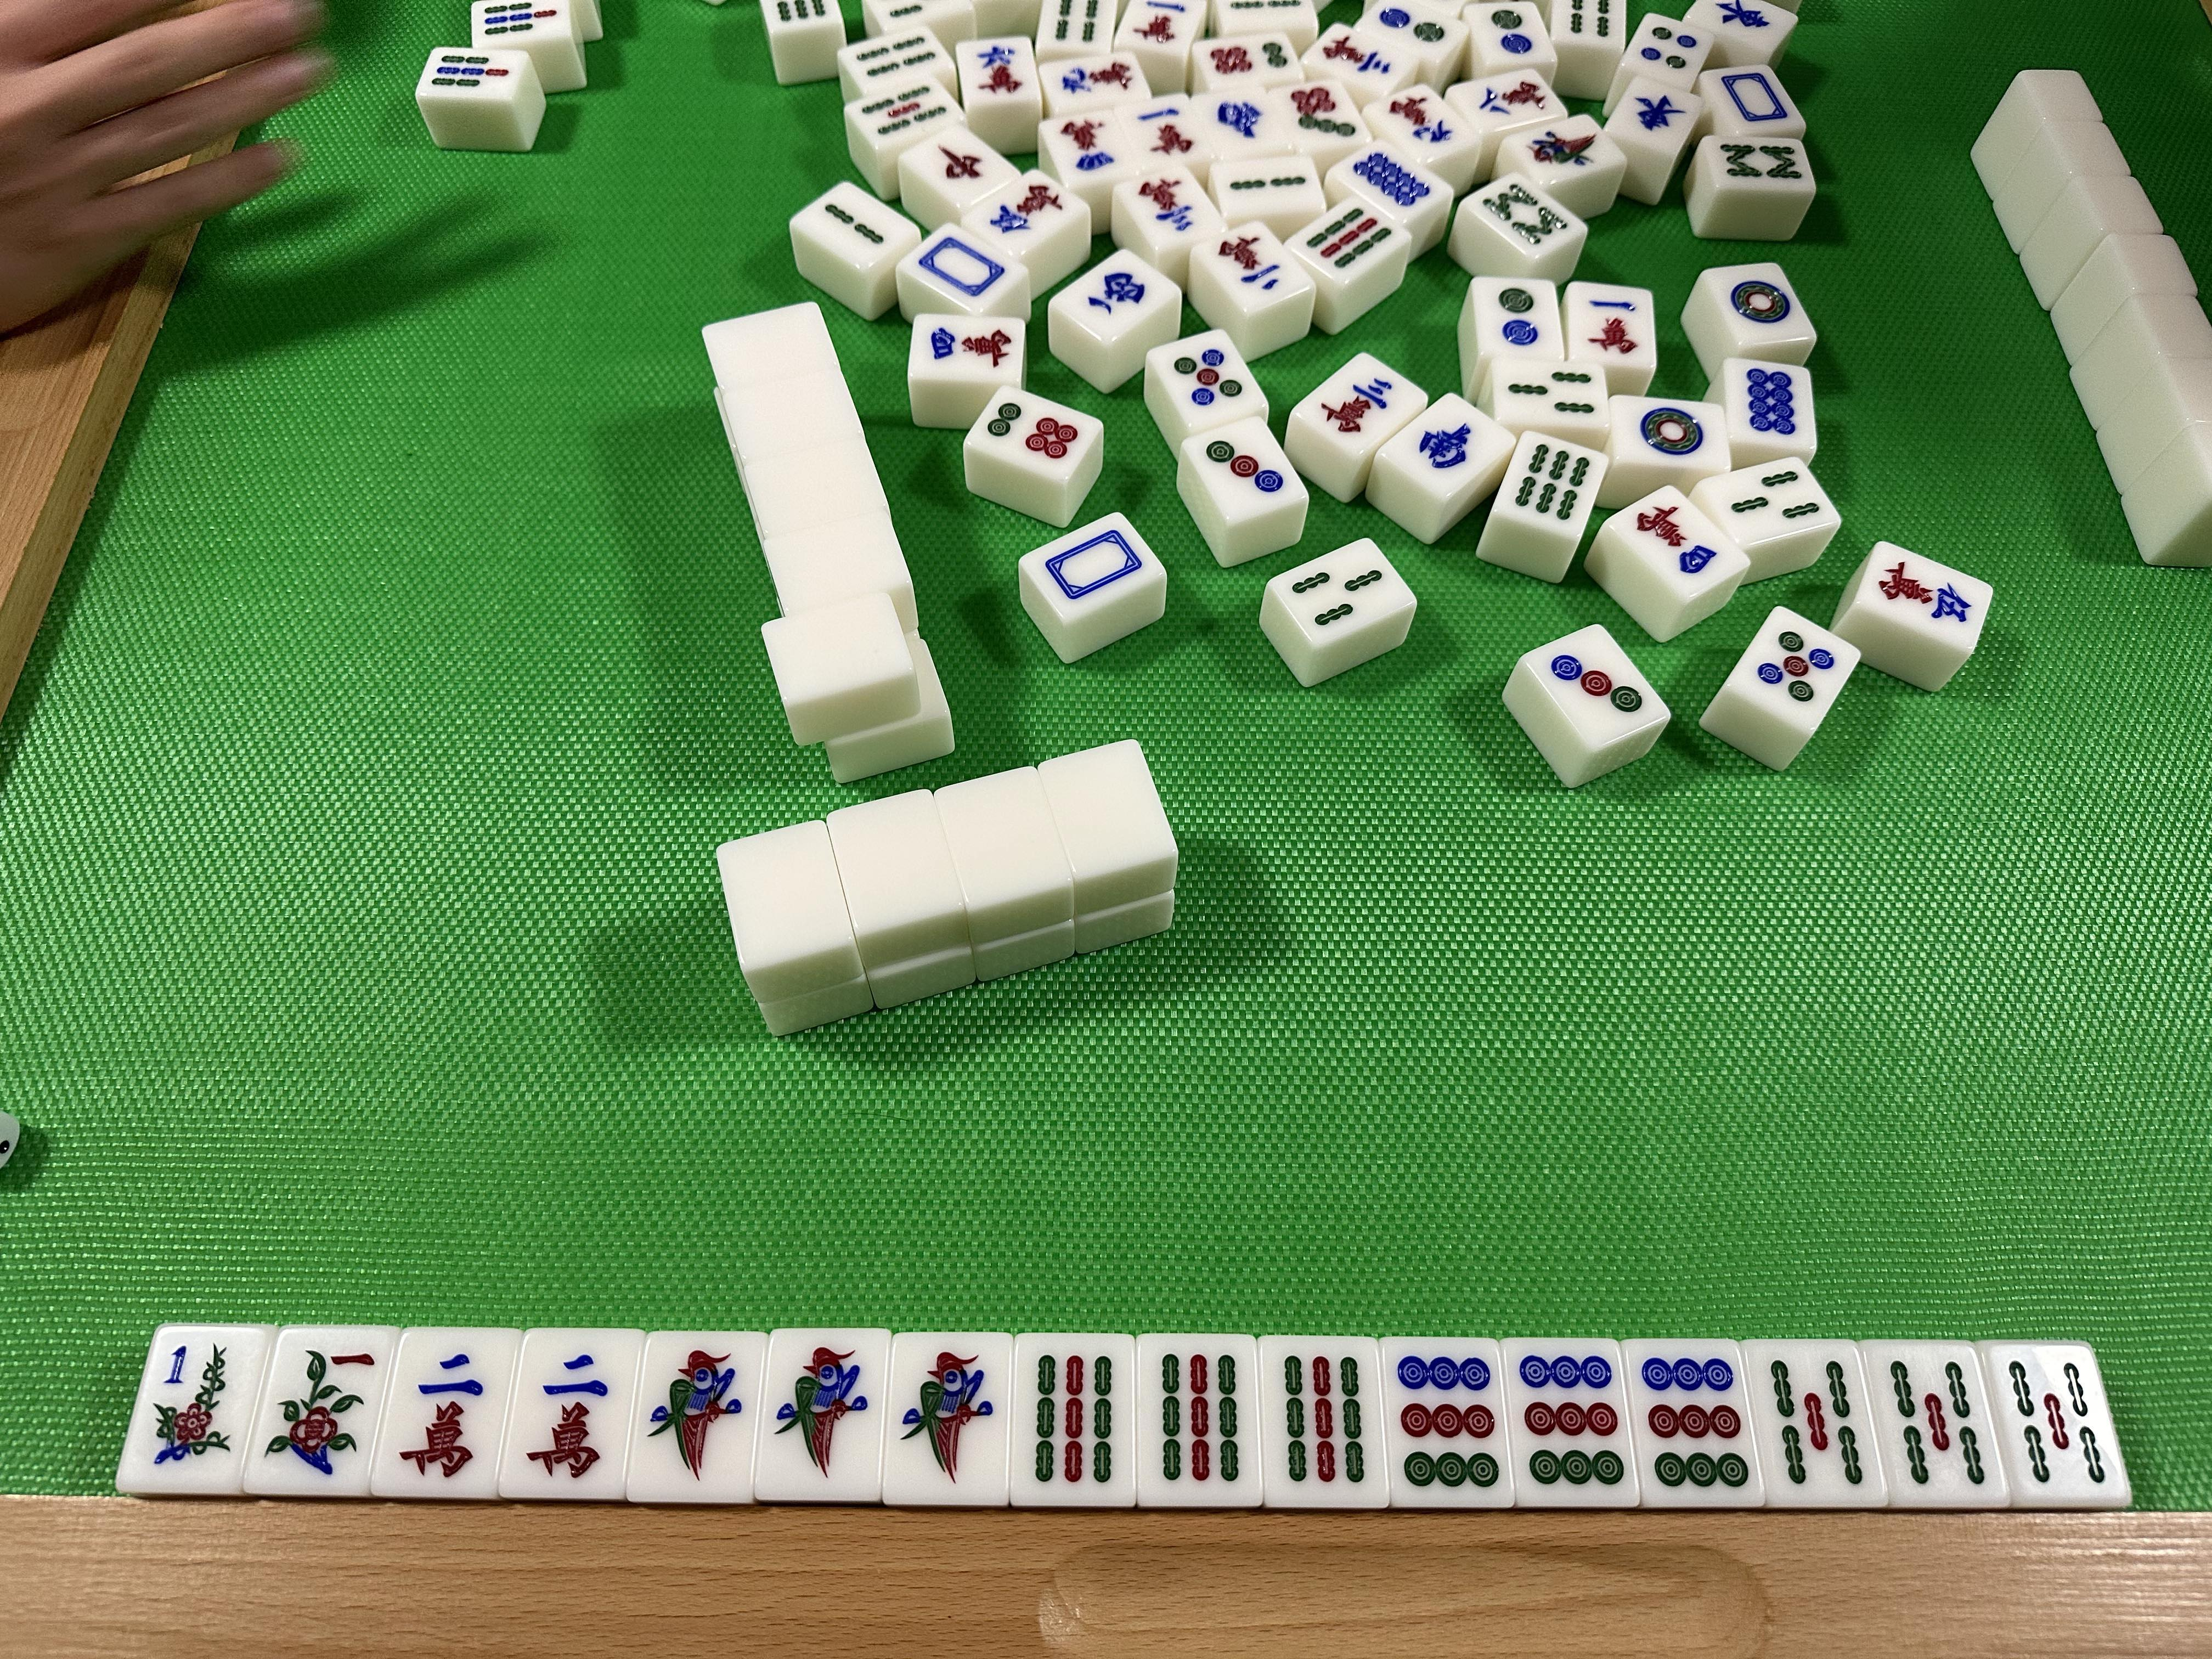bamboo-five: (1883, 1354, 1998, 1495), (1761, 1349, 1874, 1492), (2003, 1354, 2118, 1492)
bamboo-nine: (1021, 1351, 1127, 1492), (1144, 1347, 1251, 1486), (1266, 1351, 1367, 1493)
bamboo-one: (644, 1342, 749, 1485), (768, 1342, 876, 1480), (895, 1347, 1001, 1483)
character-two: (390, 1344, 491, 1480), (523, 1345, 617, 1483)
circle-nine: (1635, 1345, 1752, 1495), (1514, 1347, 1632, 1492), (1393, 1345, 1501, 1488)
flower-blue_one: (145, 1340, 240, 1483)
flower-red_one: (258, 1338, 381, 1478)
